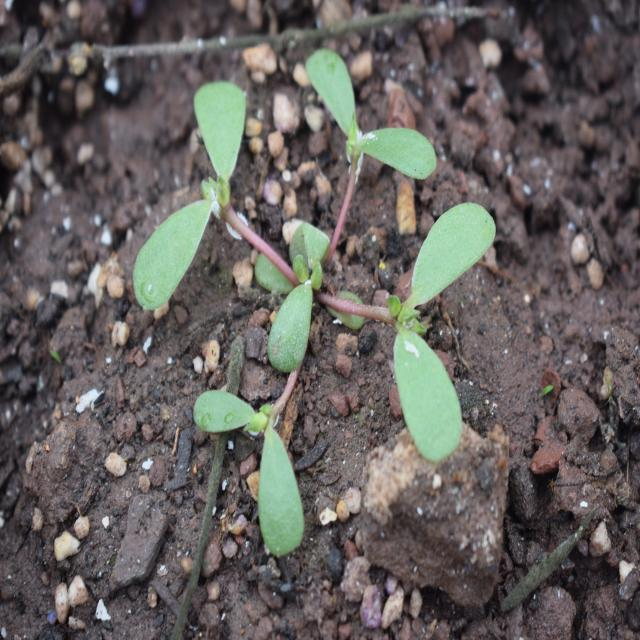purslane: (138, 48, 476, 564)
